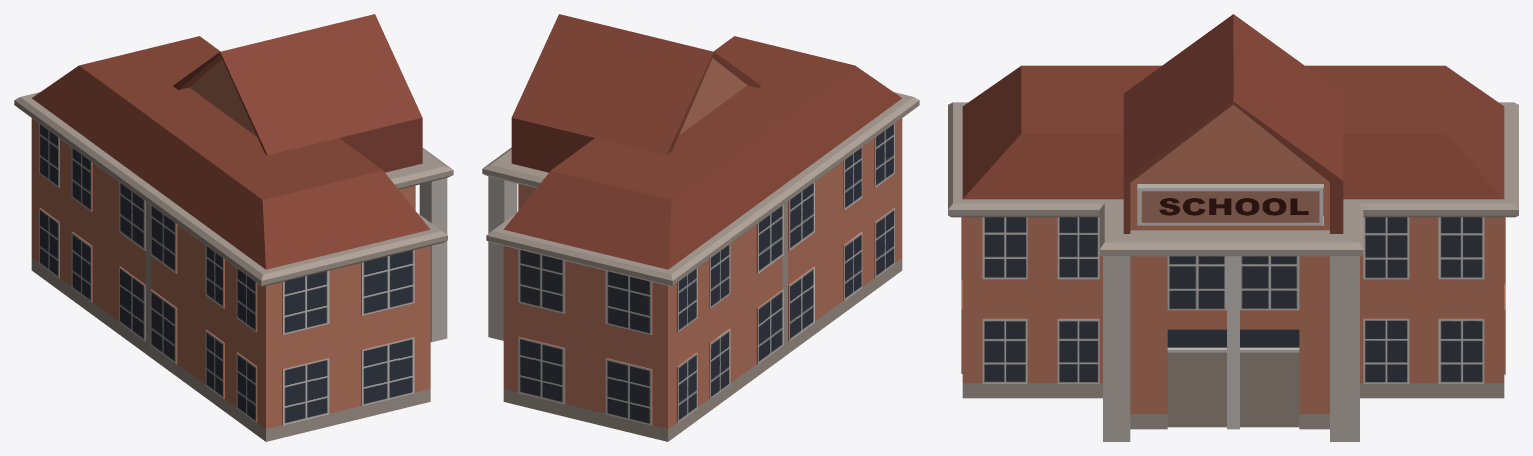
File: SchoolBuilding (2).fbx
3 views of the same model, side by side, from view 1: azimuth 30°, elevation 25°; view 2: azimuth 150°, elevation 25°; view 3: azimuth 270°, elevation 25° (orthographic). The views are drawn at different scales.
Visible parts, largest first — view 1: Cube.001; view 2: Cube.001; view 3: Cube.001.
Boxes of the visible parts, x1,y1,x2,y2 form: Cube.001: [14, 14, 453, 441]; Cube.001: [482, 14, 919, 441]; Cube.001: [948, 14, 1518, 441].
Size of the model in its own units: 2350 by 2500 by 3900.
